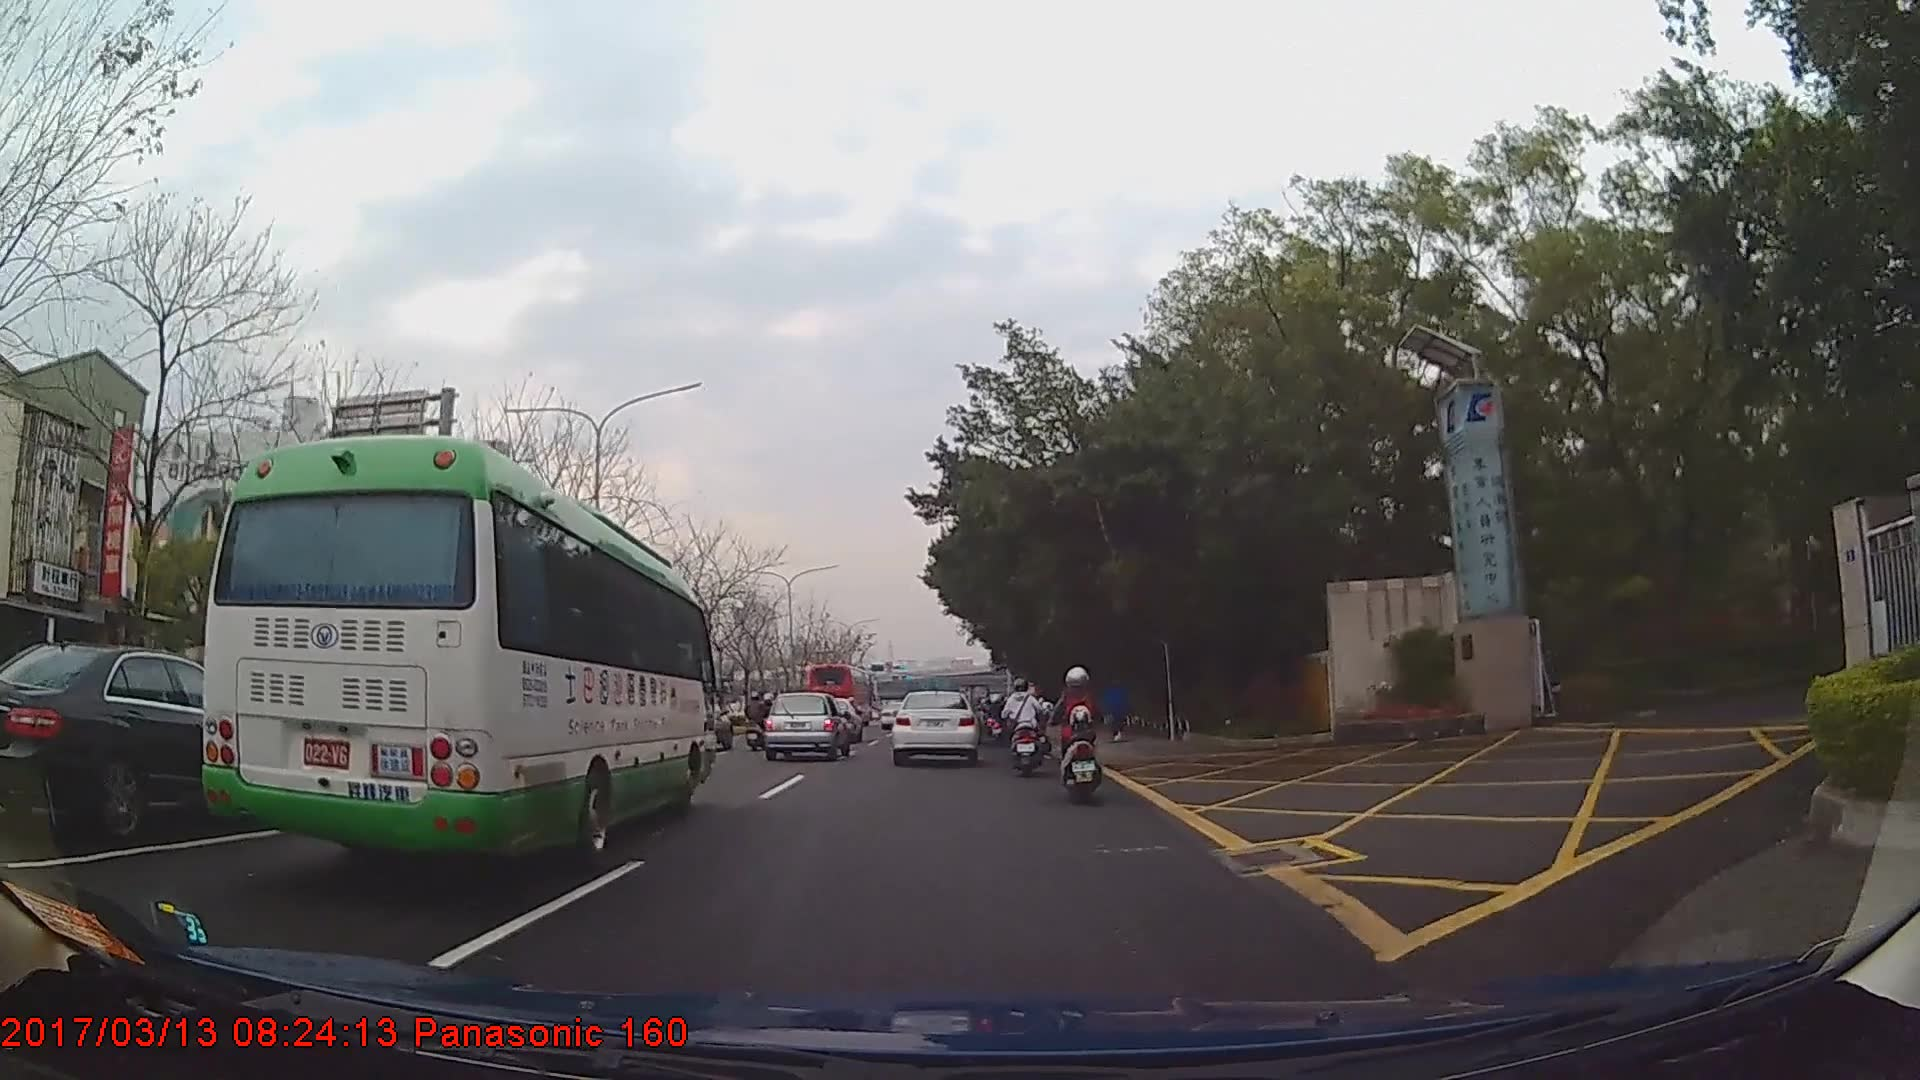pedestrian: (1102, 675, 1129, 741)
rider: (1054, 664, 1103, 804), (1001, 680, 1045, 779), (747, 690, 772, 744)
vehicle: (200, 433, 715, 868), (0, 642, 314, 844), (888, 688, 978, 765), (762, 689, 852, 761), (805, 658, 873, 724)
